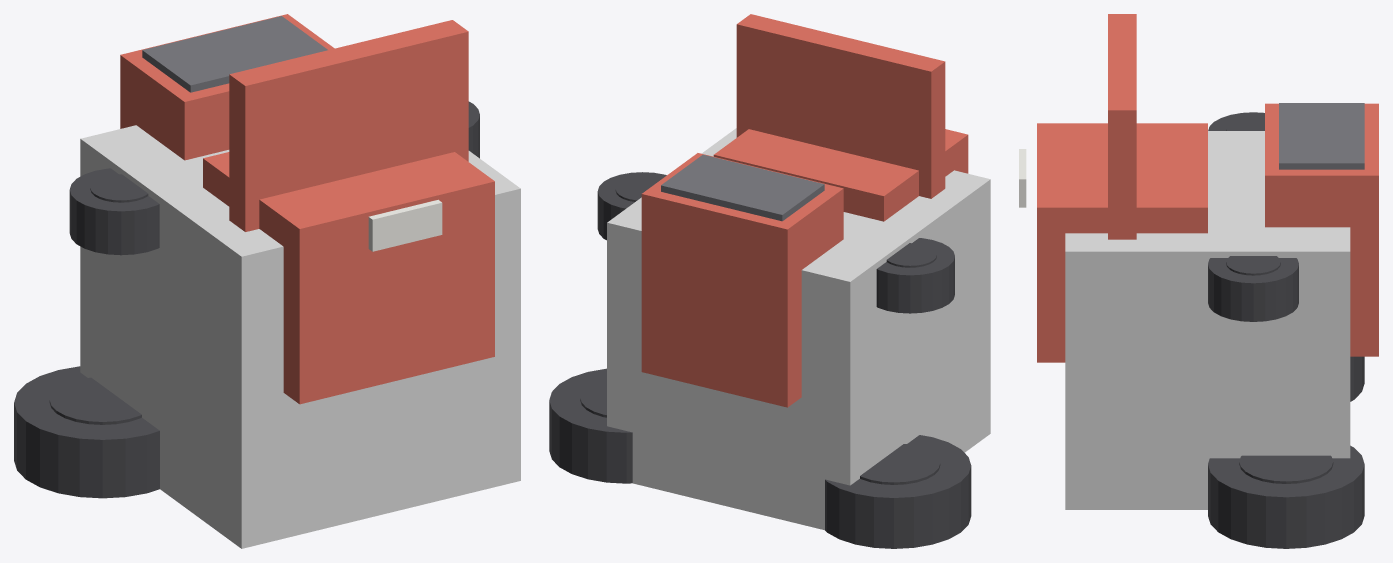
The model's file is tractor_1.glb.
3 renders of one model, left to right at view 1: azimuth 30°, elevation 25°; view 2: azimuth 150°, elevation 25°; view 3: azimuth 270°, elevation 25°, orthographic. The views are drawn at different scales.
Parts seen in each view (by area): view 1: Cube, Cabin, Roof, Wheel_RL, Bonnet, Grille, Wheel_FL, Plate; view 2: Cube, Bonnet, Roof, Wheel_RL, Cabin, Wheel_RR, Grille, Wheel_FL, Wheel_FR; view 3: Cube, Cabin, Wheel_RR, Bonnet, Roof, Grille, Wheel_FR, Wheel_FL, Wheel_RL, Plate.
Part boxes in pixels (x1,y1,x2,y2): Cube: (80,125,520,548); Cabin: (203,152,494,404); Roof: (229,20,468,231); Wheel_RL: (14,366,159,498); Bonnet: (120,14,334,160); Grille: (142,16,327,92); Wheel_FL: (69,168,159,255); Plate: (368,199,442,251); Cube: (607,128,990,530); Bonnet: (641,153,843,407); Roof: (736,14,945,198); Wheel_RL: (825,435,971,548); Cabin: (713,129,968,221); Wheel_RR: (549,368,632,483); Grille: (661,154,824,221); Wheel_FL: (876,238,954,313); Wheel_FR: (597,172,666,240); Cube: (1065,131,1350,509); Cabin: (1037,123,1207,362); Wheel_RR: (1208,445,1364,548); Bonnet: (1265,103,1378,356); Roof: (1108,14,1136,239); Grille: (1279,103,1364,169); Wheel_FR: (1208,256,1298,321); Wheel_FL: (1208,112,1264,130); Wheel_RL: (1350,356,1364,401); Plate: (1019,149,1026,207).
Size of the model in its own units: 3.3 by 3.02 by 2.52.
